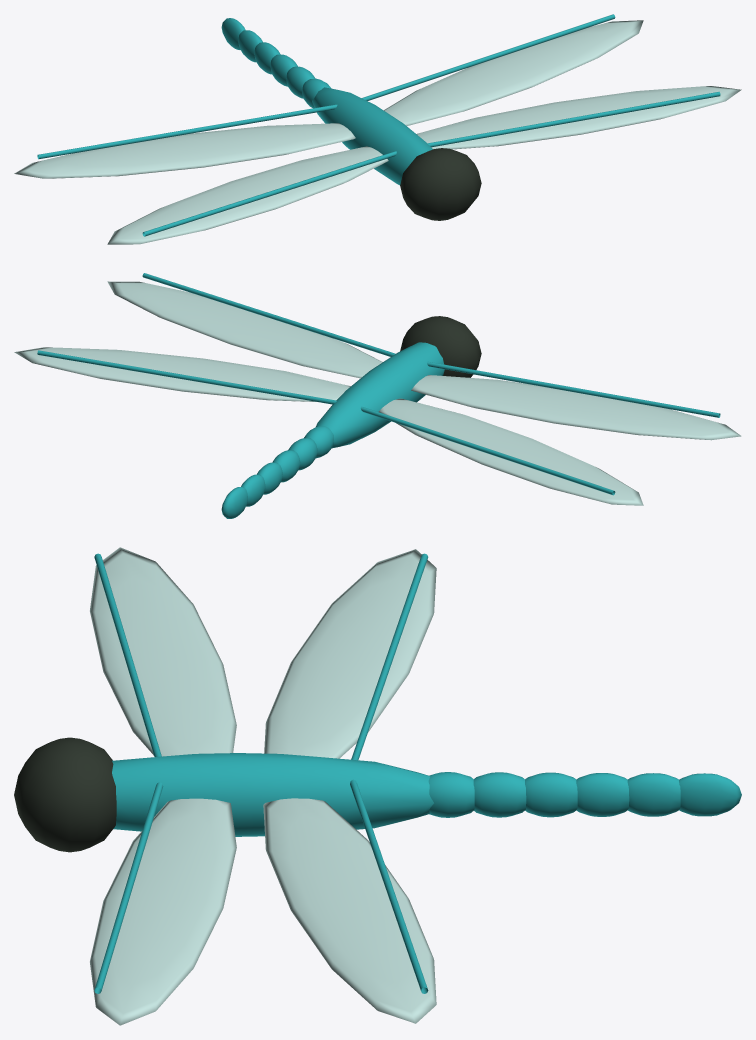
File: dragonfly.glb
3 renders of one model, top to bottom at view 1: azimuth 30°, elevation 25°; view 2: azimuth 150°, elevation 25°; view 3: azimuth 270°, elevation 25°, orthographic. The views are drawn at different scales.
Parts seen in each view (by area): view 1: Wing blade, Wing blade.002, Body; view 2: Wing blade, Wing blade.002, Body; view 3: Wing blade.002, Wing blade, Body.
Part boxes in pixels (x1,y1,x2,y2): Wing blade: [14, 104, 396, 244]; Wing blade.002: [362, 14, 741, 149]; Body: [221, 18, 481, 220]; Wing blade: [360, 361, 741, 505]; Wing blade.002: [14, 273, 395, 404]; Body: [221, 316, 481, 518]; Wing blade.002: [90, 779, 436, 1025]; Wing blade: [90, 547, 436, 760]; Body: [14, 737, 741, 852].
Size of the model in its own units: 1.21 by 0.12 by 0.78.
